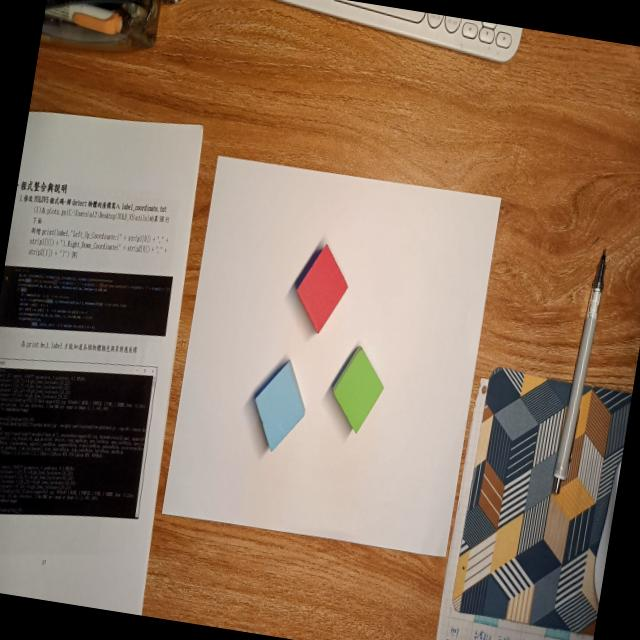BLUE: (255, 361, 305, 453)
GREEN: (330, 346, 384, 434)
RED: (296, 245, 349, 337)
